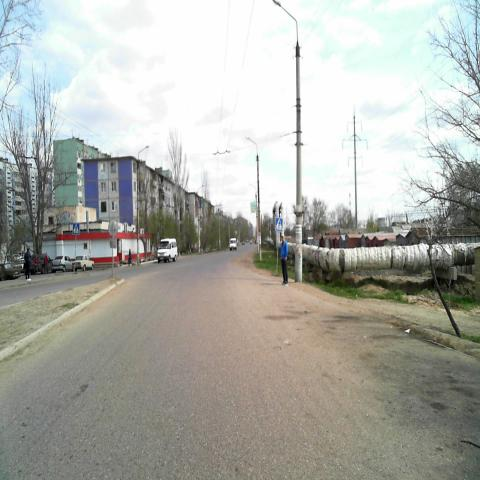5_19_1: (275, 218, 283, 232), (72, 223, 79, 235)
